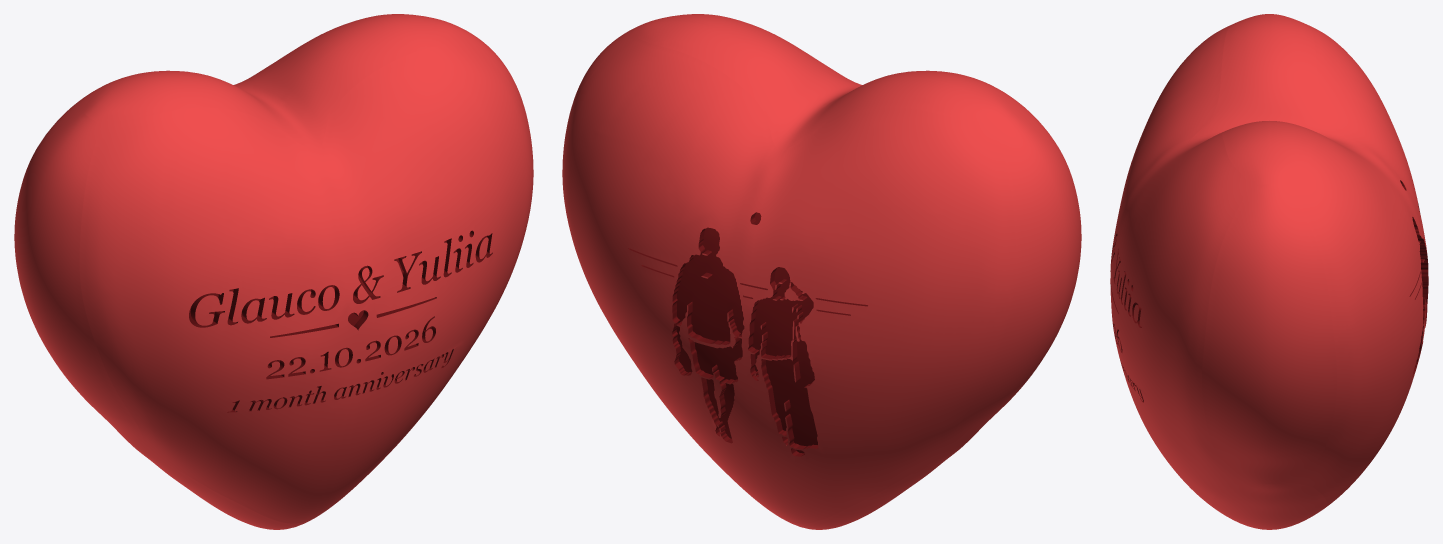
File: month-01.glb
3 renders of one model, left to right at view 1: azimuth 30°, elevation 25°; view 2: azimuth 150°, elevation 25°; view 3: azimuth 270°, elevation 25°, orthographic. The views are drawn at different scales.
Parts seen in each view (by area): view 1: Cuore_Month01; view 2: Cuore_Month01; view 3: Cuore_Month01.
Boxes of the visible parts, bbox=[...] form: Cuore_Month01: bbox=[14, 14, 533, 529]; Cuore_Month01: bbox=[562, 14, 1081, 529]; Cuore_Month01: bbox=[1110, 14, 1428, 529].
Bounding box in the file's own units: 1.72 × 1.58 × 1.03.
